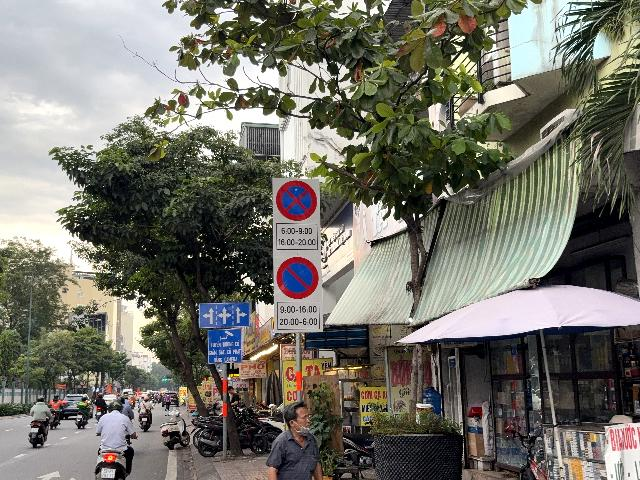cam-do-xe: (277, 257, 319, 299)
cam-dung-va-do-xe: (276, 179, 317, 222)
